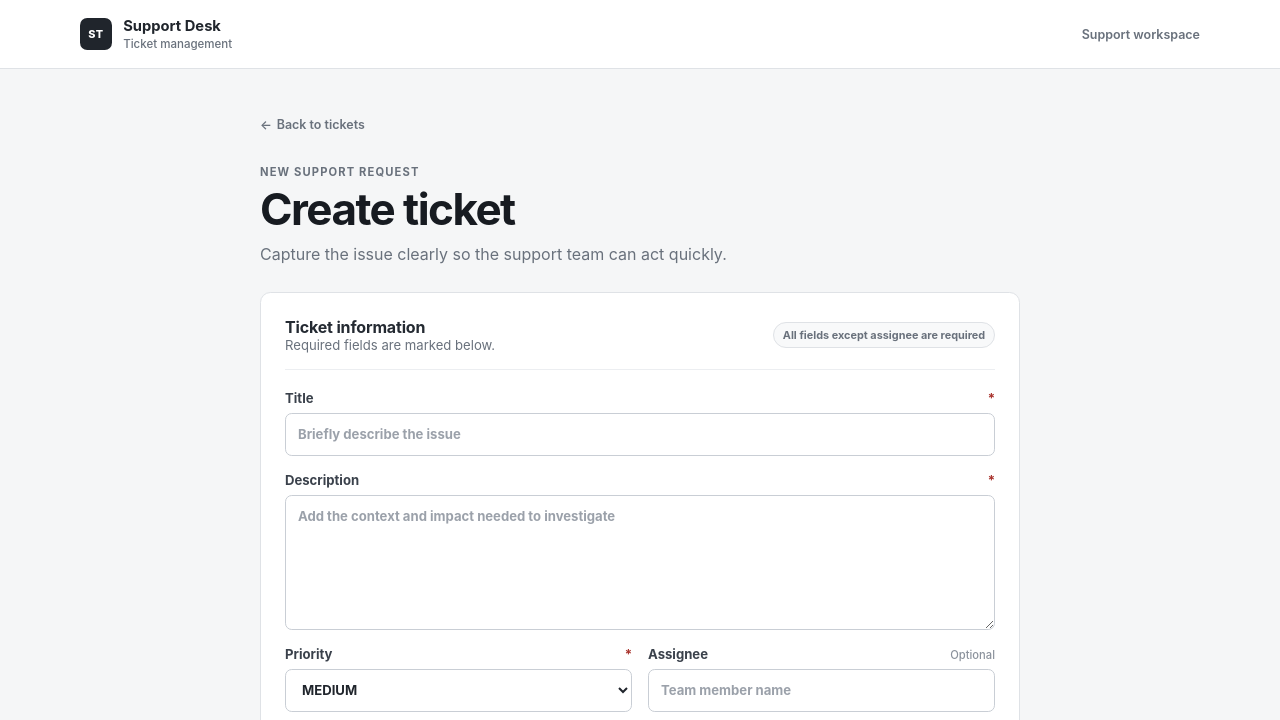
Test case: support ticket application › preserves create input when backend validation fails
Step 1. Type "Retained title" into the field labelled "Title" → (640, 434), box [285, 413, 995, 456]
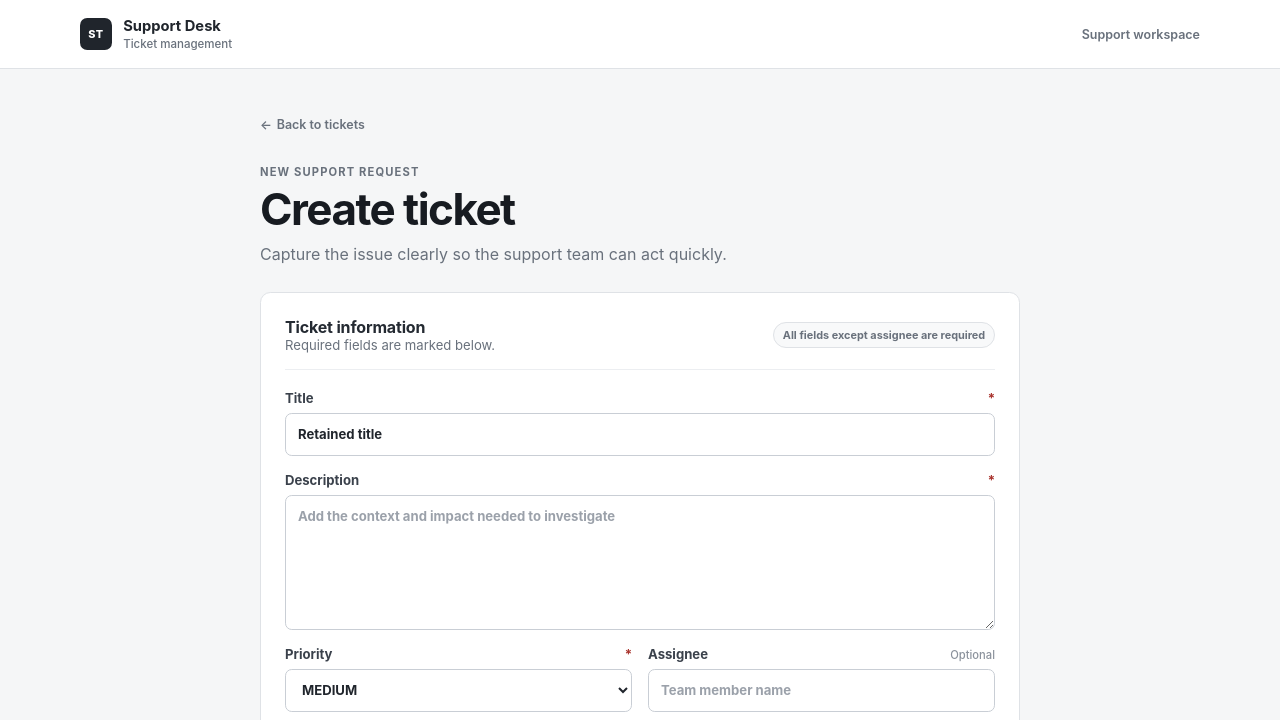
Step 2. Type "Description" into the text box labelled "Description" → (640, 562), box [285, 495, 995, 630]
(page scrolled)
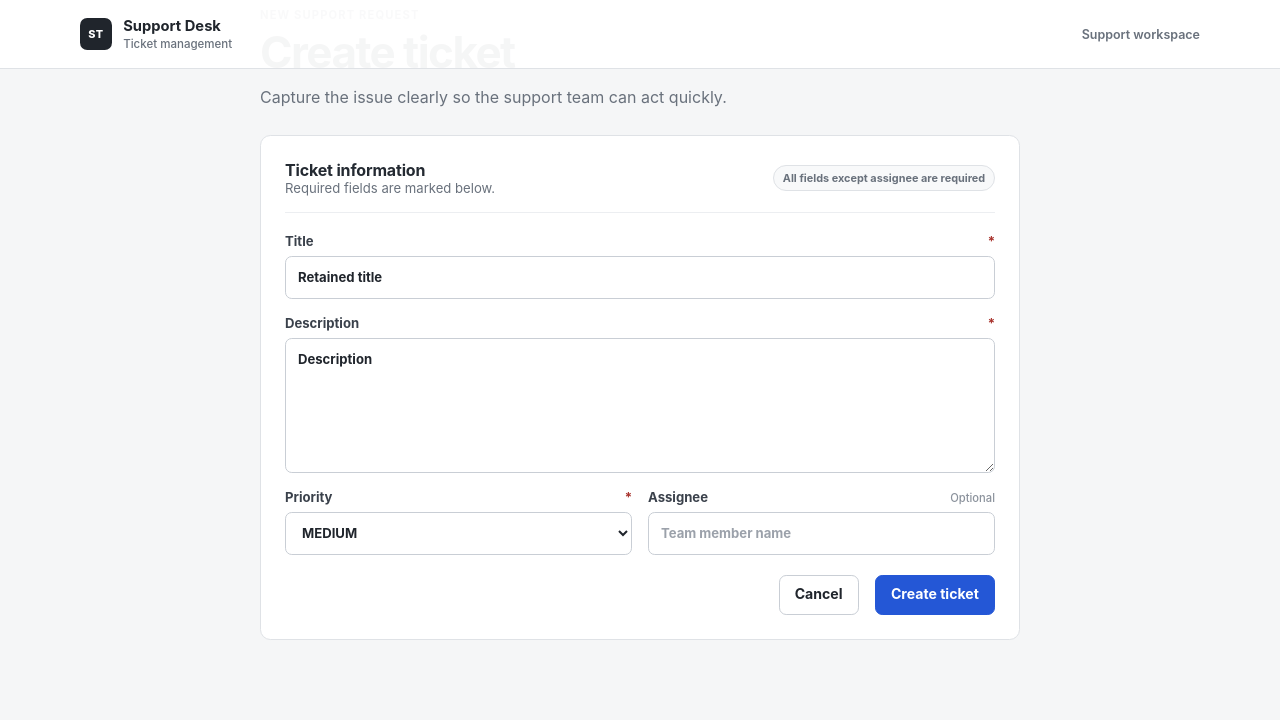
Step 3. Click the button "Create ticket" → (935, 595), box [875, 575, 995, 615]
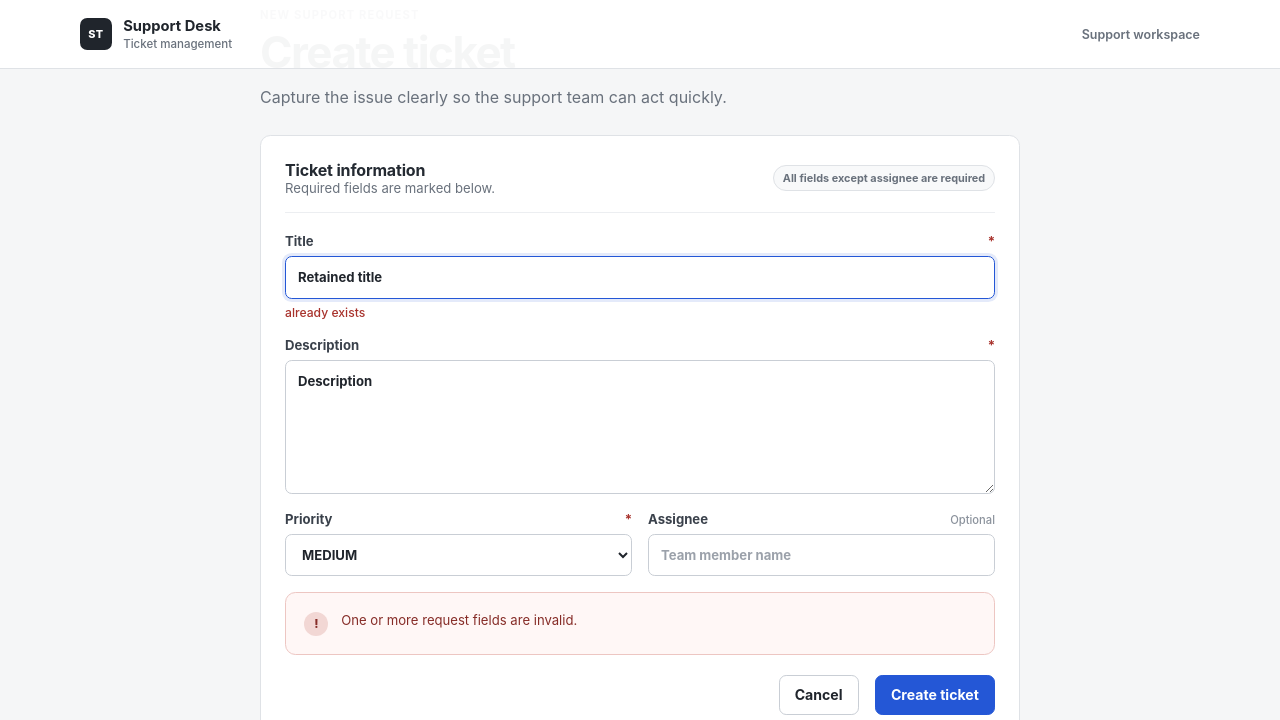
Now the text "already exists" is shown, box [285, 305, 365, 320]
